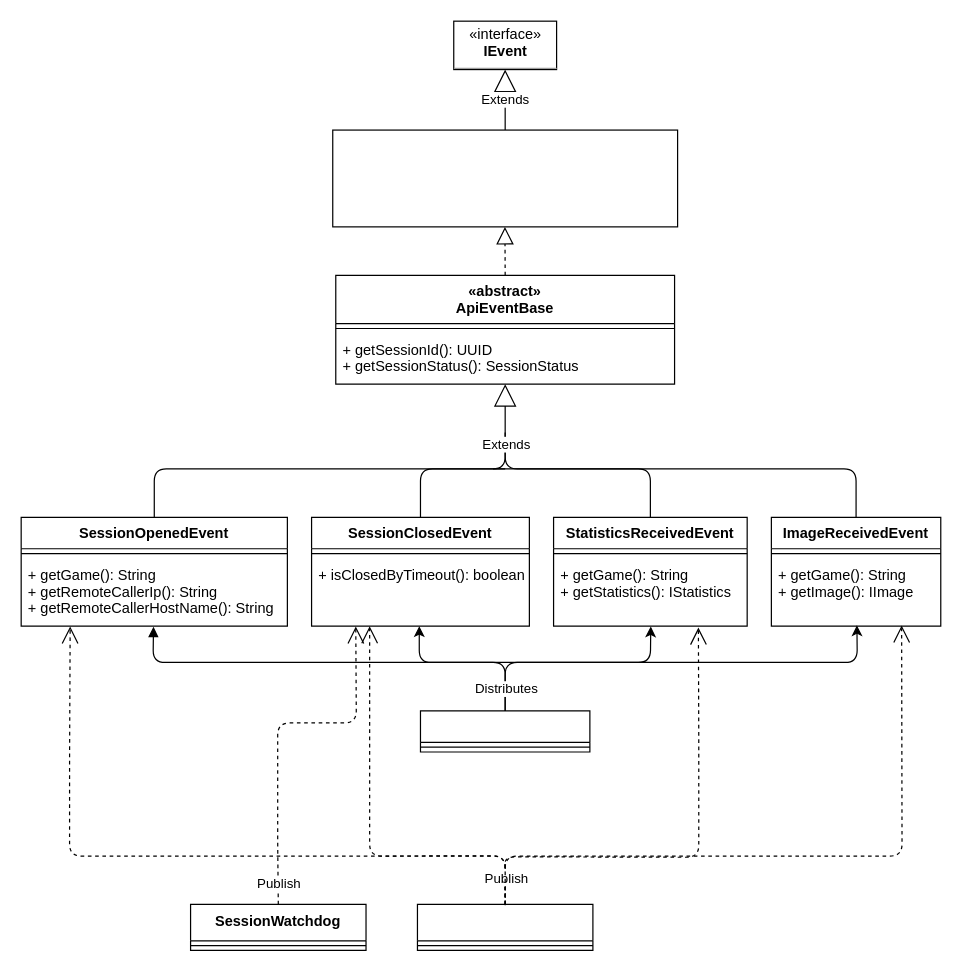
Image size: 962x972. Some labels were removed from this diagram. The shapes that lost their labels are listed below. From the top down, each one's centre as x and y in pixels, then its label:
At pixel 505 178: "«interface» IApiEvent + getSessionId(): UUID + getSessionStatus(): SessionStatus".
At pixel 504 731: "ApiEventBus".
At pixel 504 926: "SessionAdministration".
